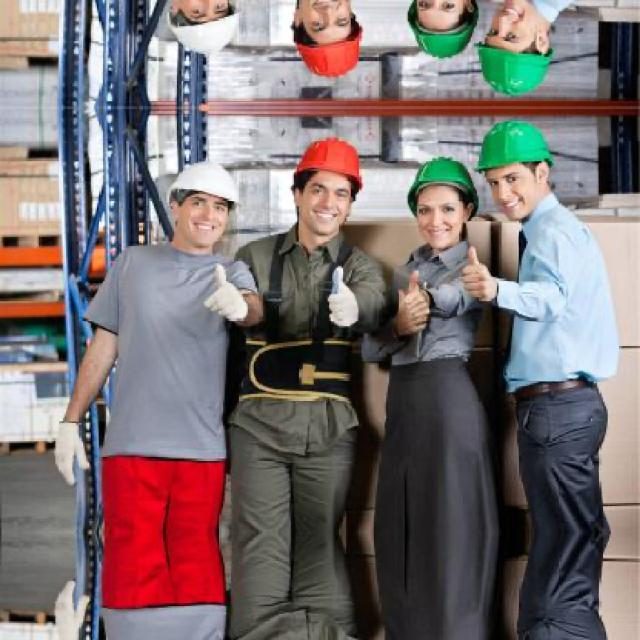con casco: (448, 106, 578, 223), (126, 152, 245, 266), (272, 136, 370, 254), (429, 151, 494, 270)
